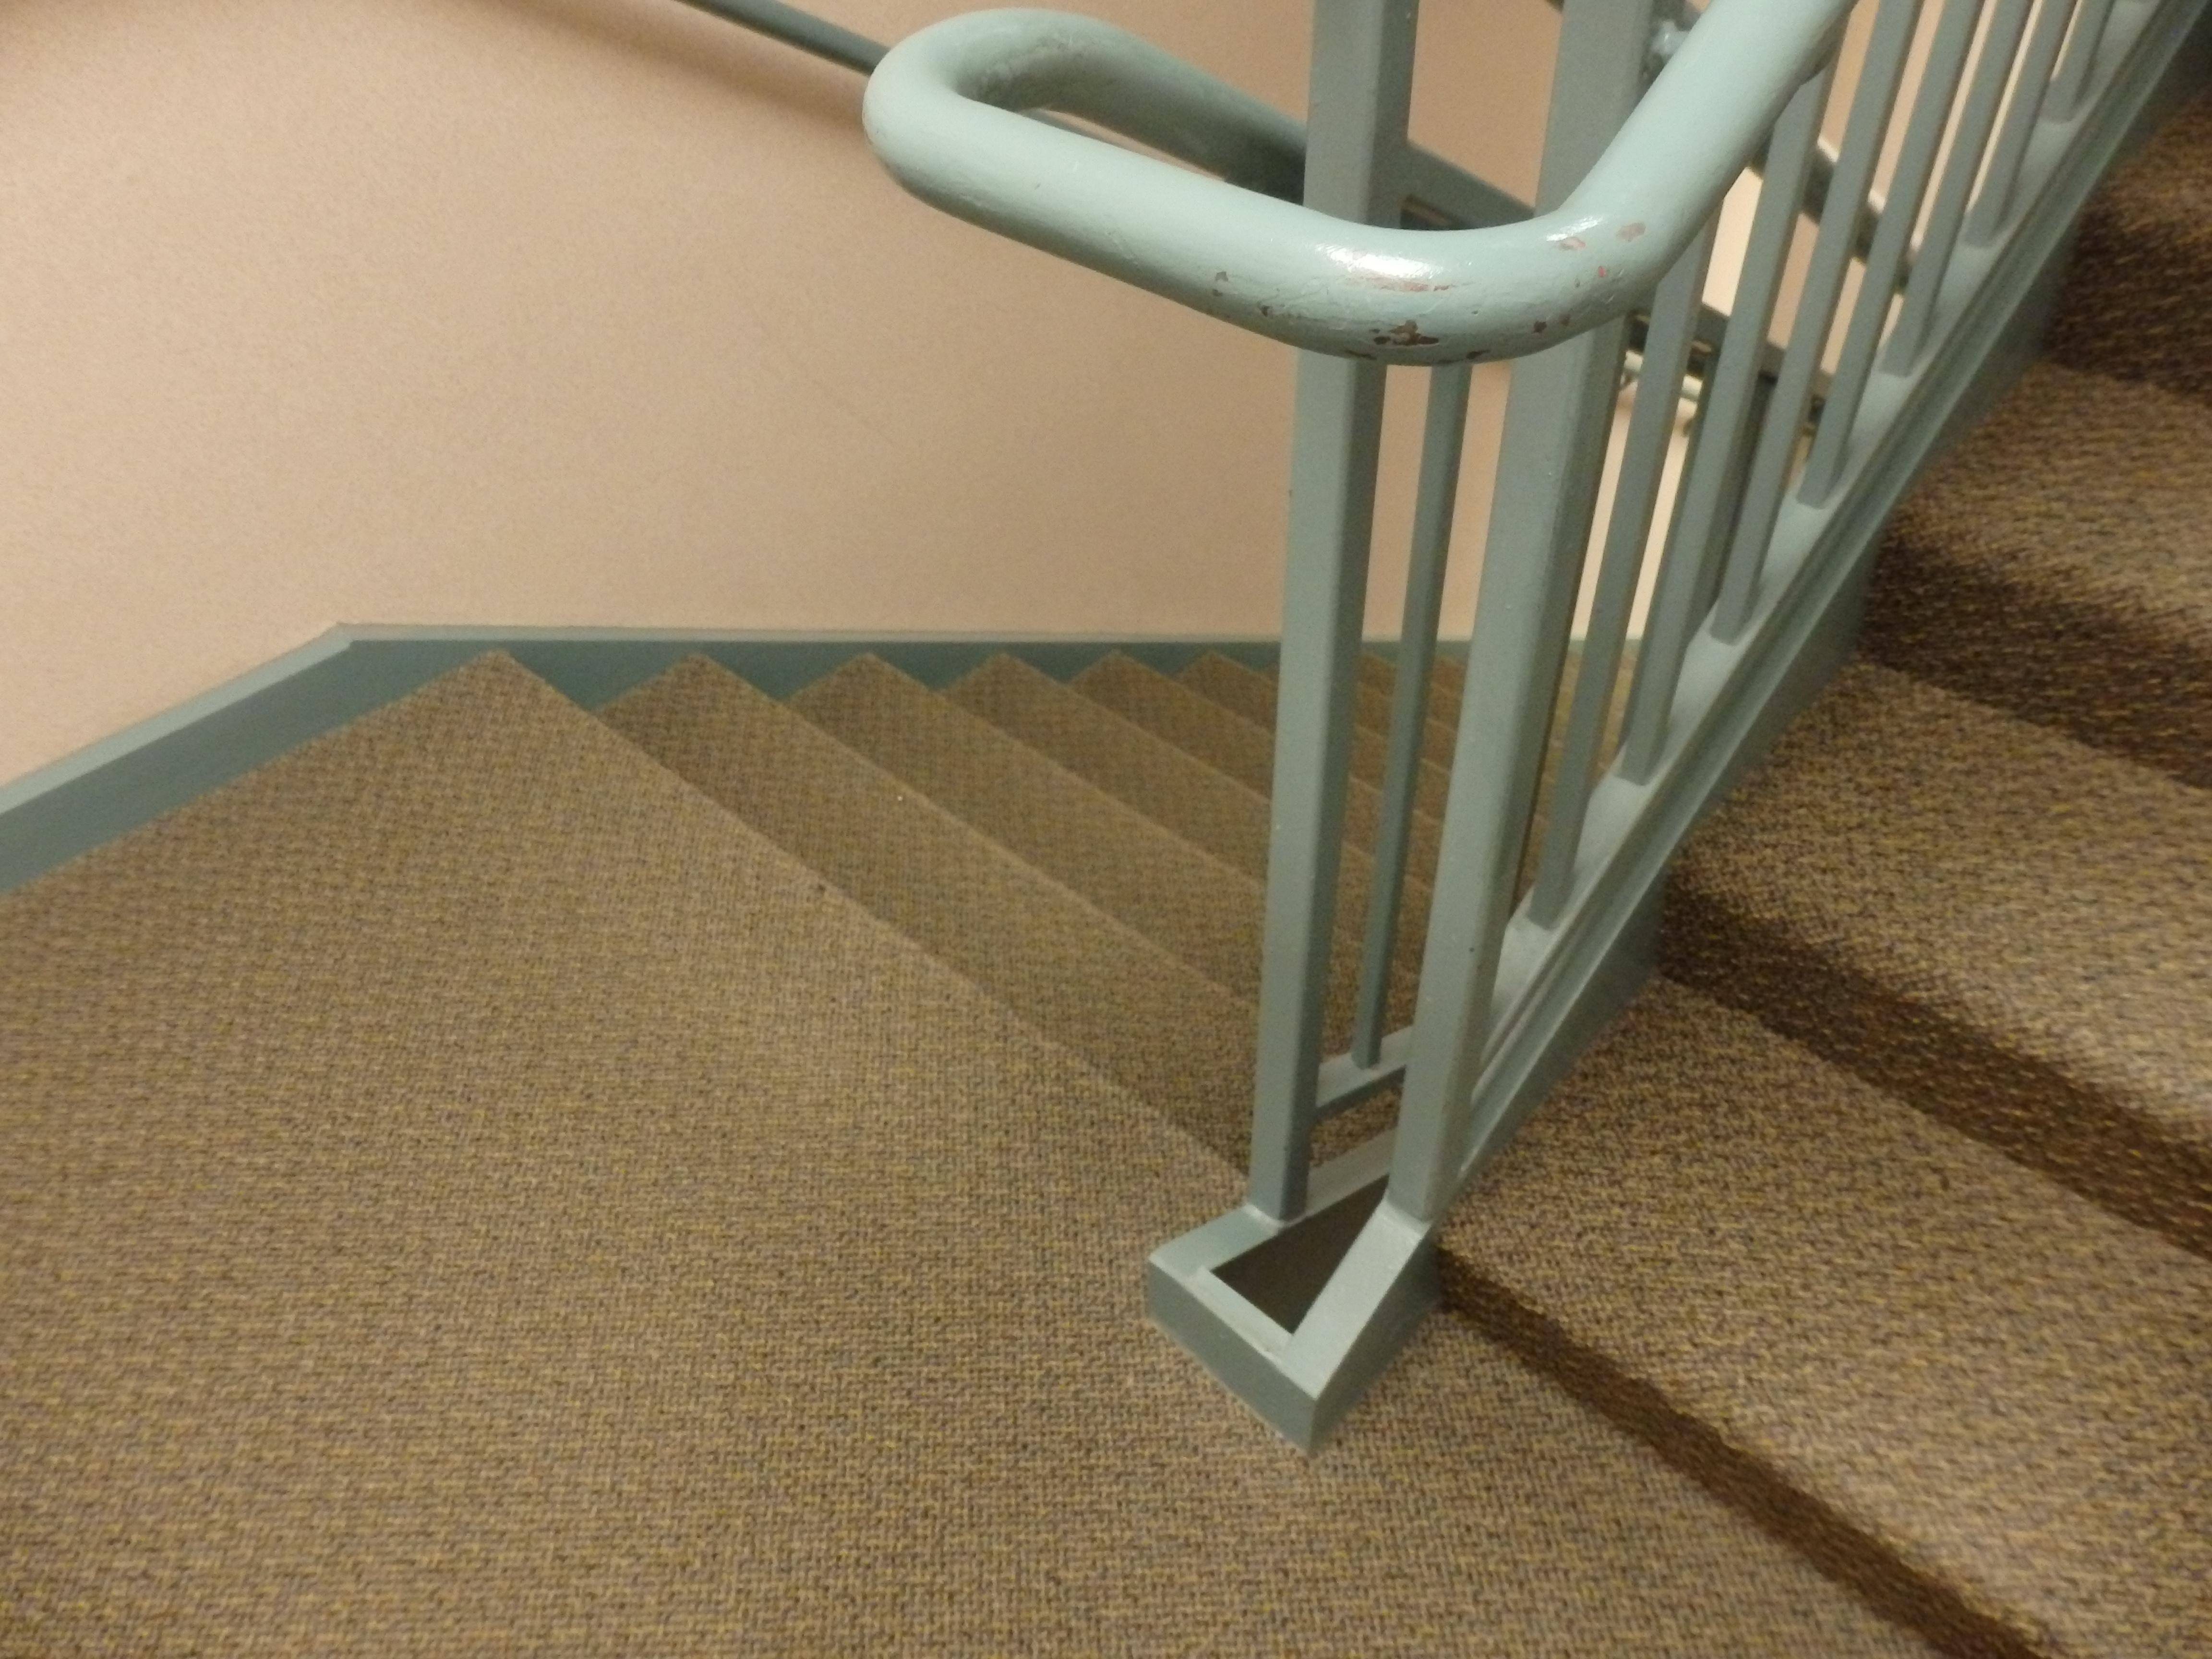stairs_down: (406, 549, 1674, 1070)
stairs_up: (1531, 451, 2212, 1650)
